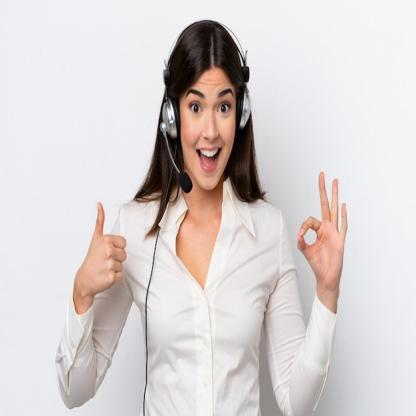ok: (298, 171, 348, 290)
thumb_up: (80, 201, 128, 298)
